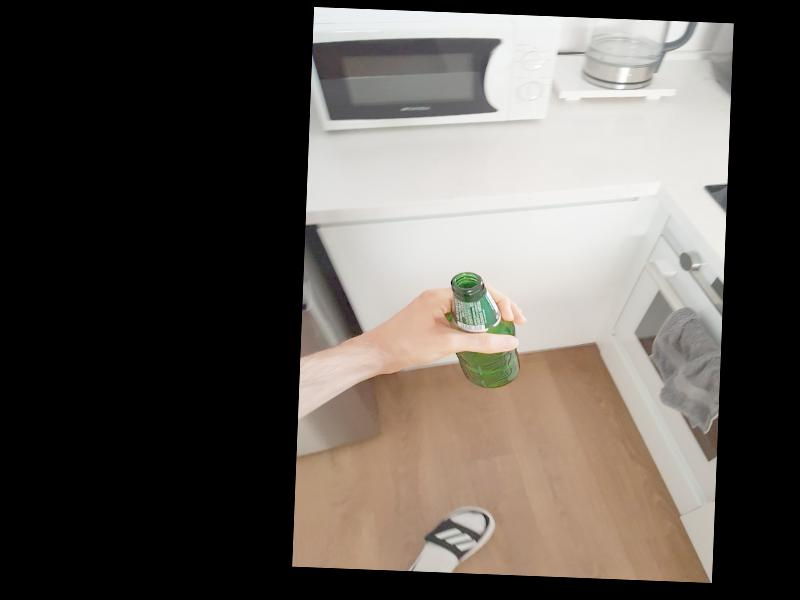Beer: (446, 273, 523, 389)
